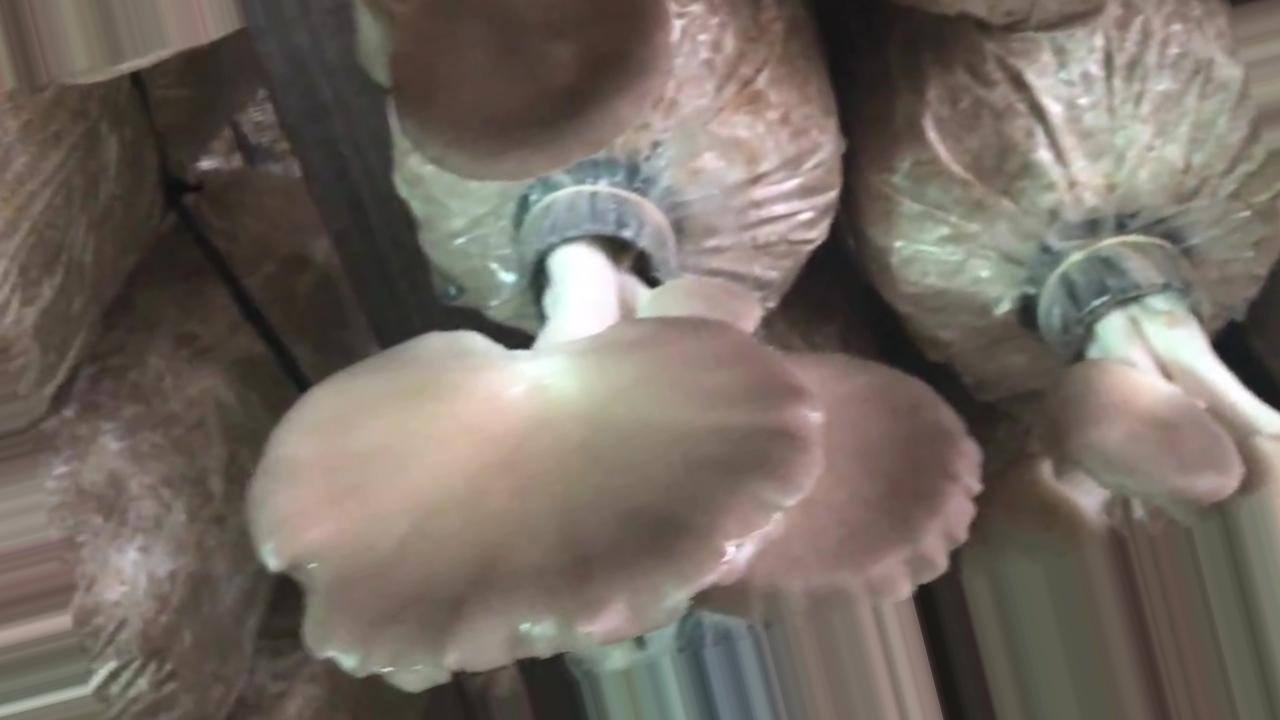nam: (242, 185, 823, 693), (995, 223, 1280, 556), (685, 350, 988, 634), (388, 1, 674, 182)
